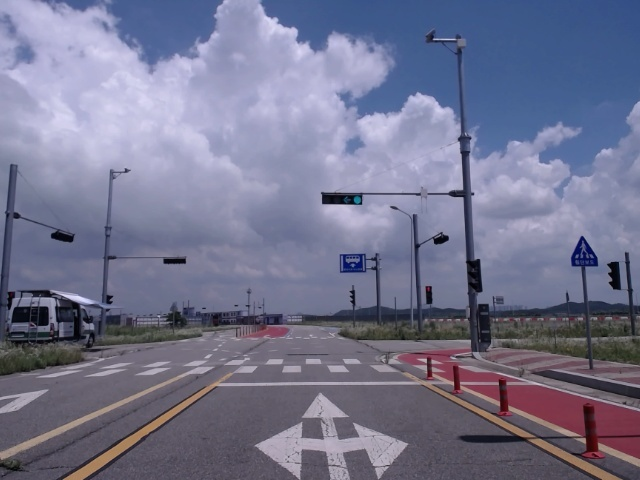all_green_4: (320, 191, 361, 205)
